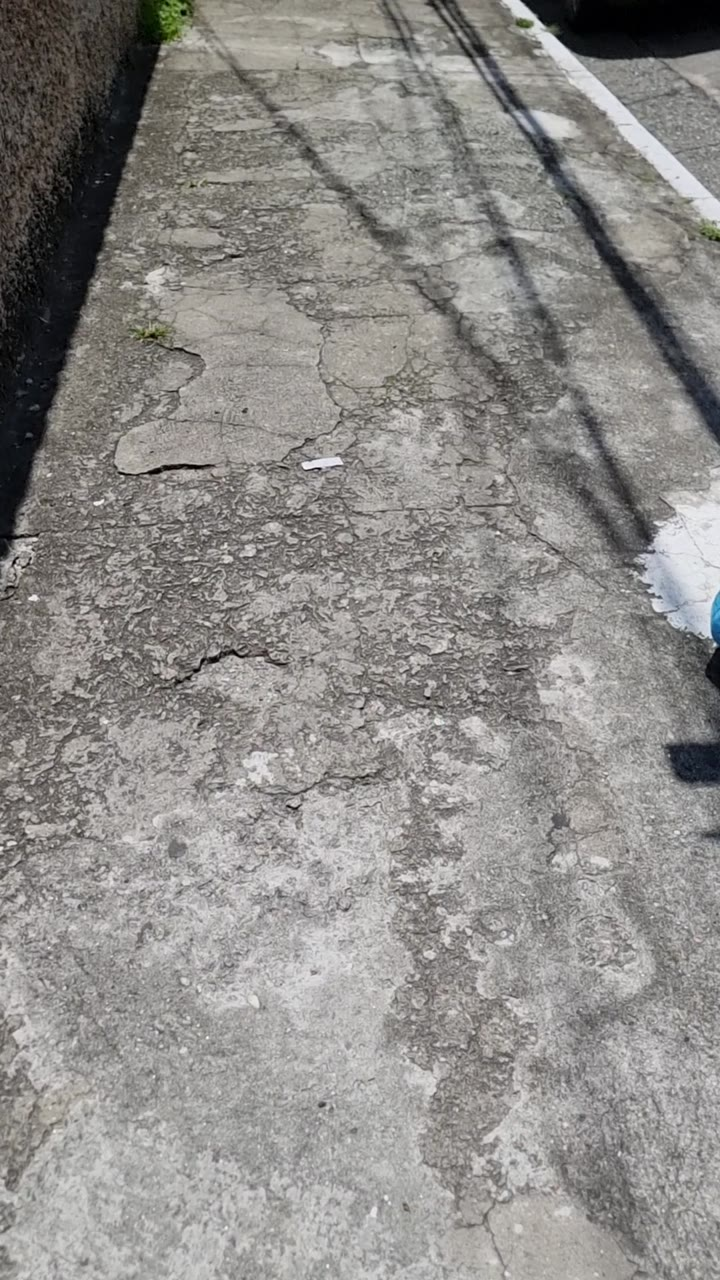obstaculo: (648, 499, 720, 640)
